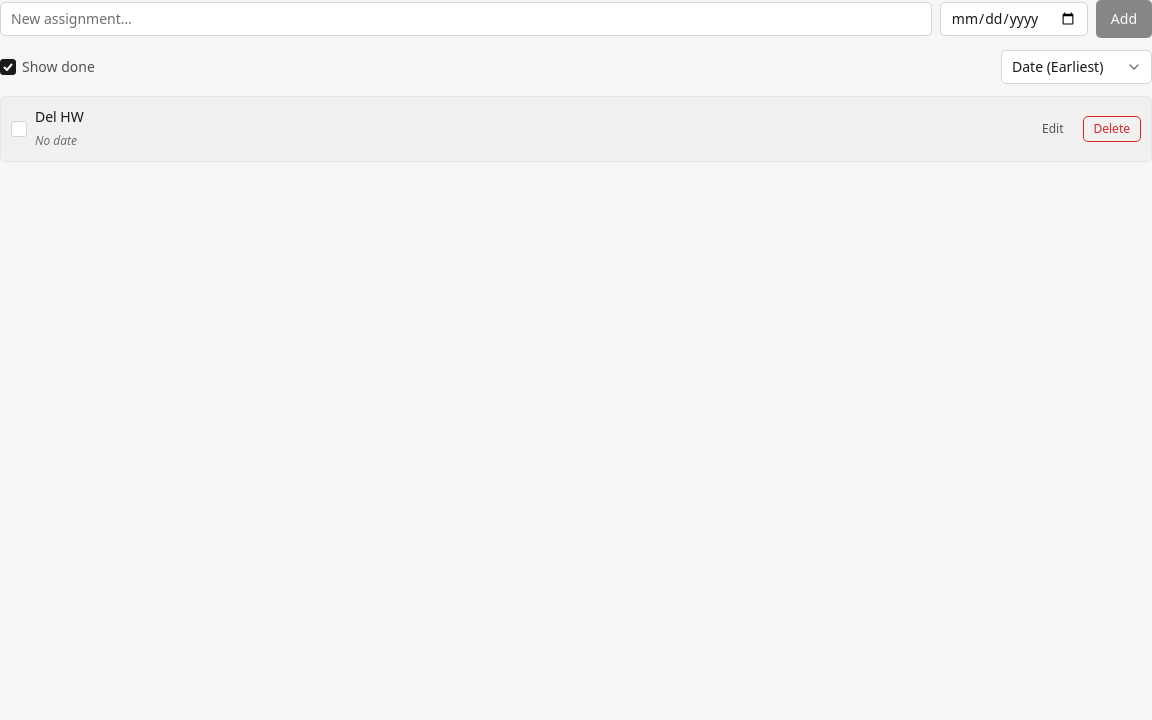
Test: HomeworkTab › deletes an assignment after confirmation and shows a toast
Click the button with aria-label "Delete Del HW": x=1112, y=129 [1082,116,1141,142]
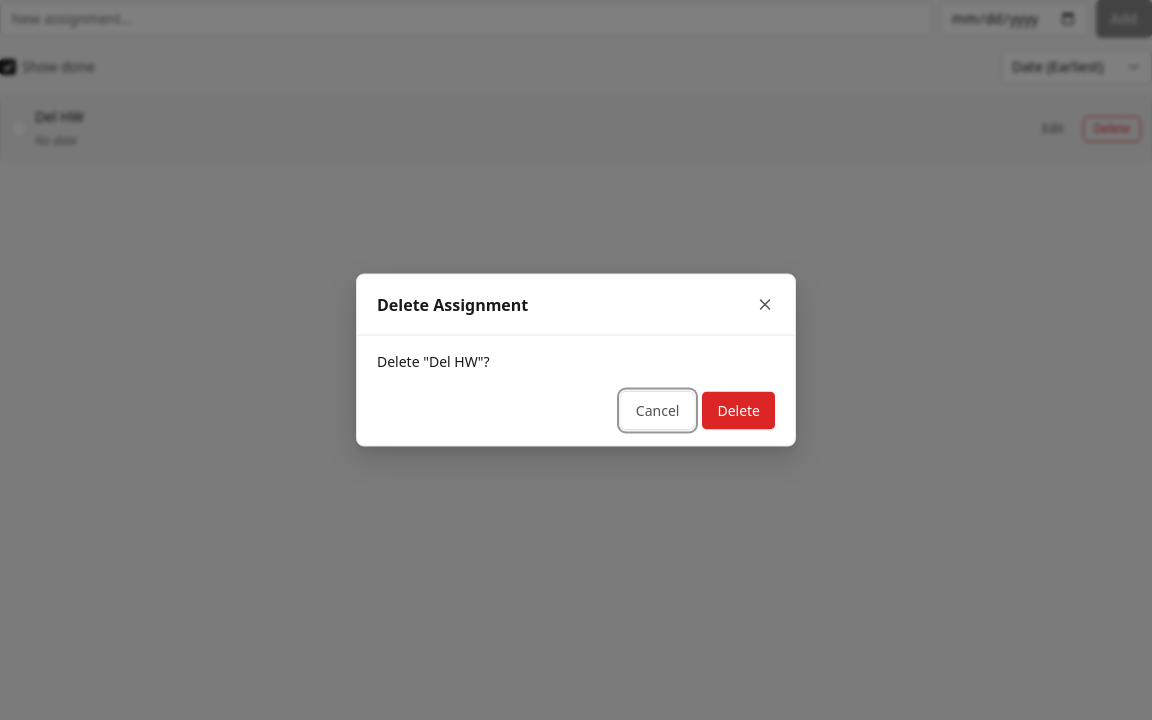
Click the button "Delete": x=739, y=410 [702,392,775,430]
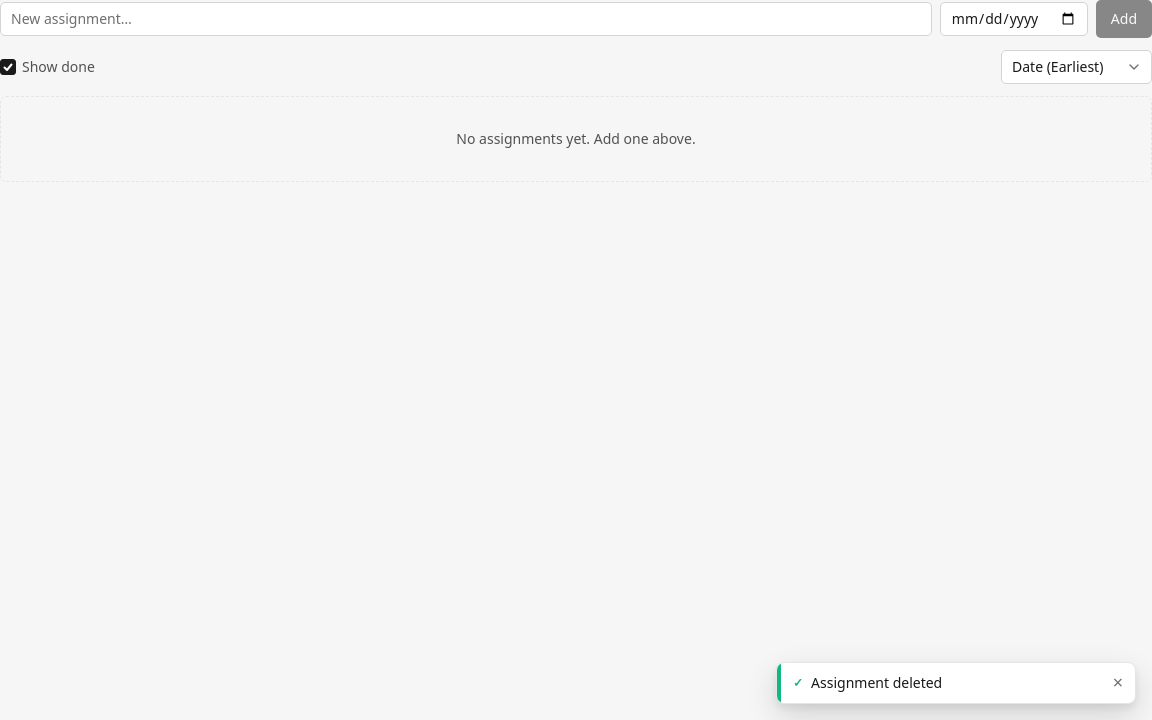
Result: the text "Del HW" is gone
Result: the text "Assignment deleted" is shown at [811,673,942,692]
